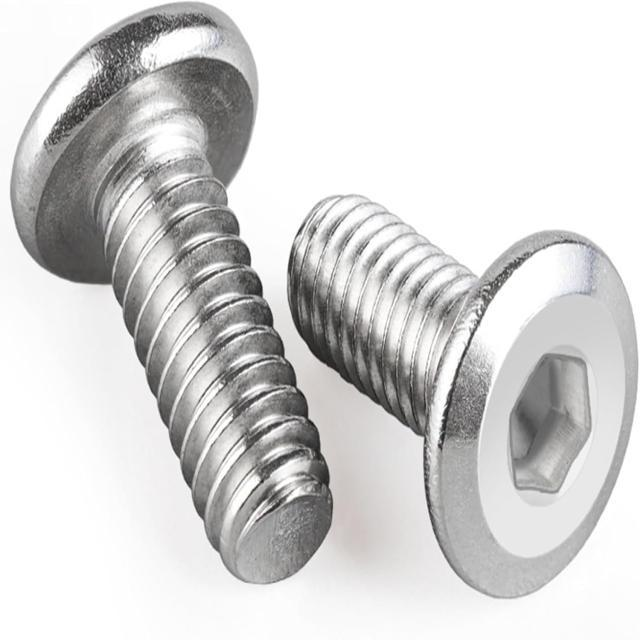allen: (508, 349, 594, 497)
